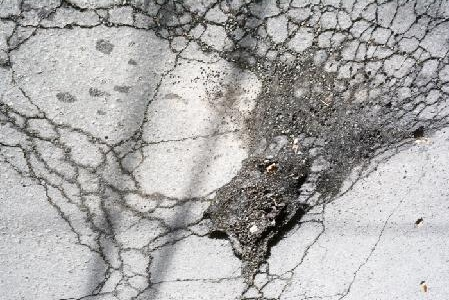pothole: (199, 152, 316, 287)
